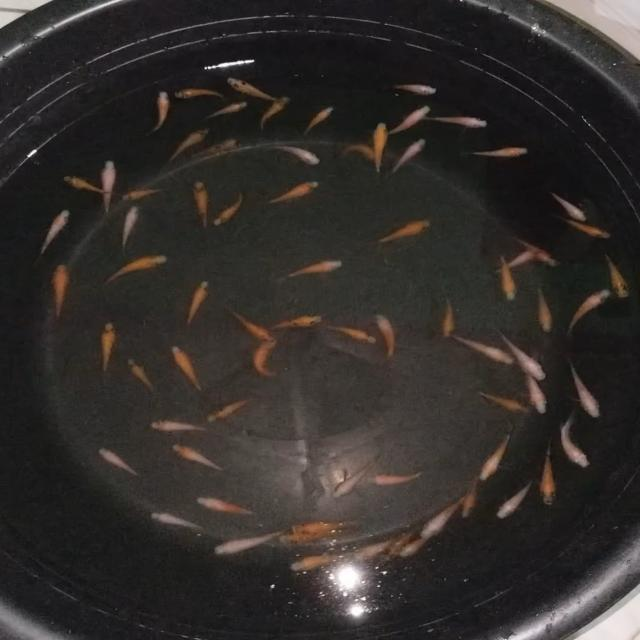nila: (496, 325, 549, 383), (558, 408, 600, 472), (446, 331, 518, 368), (214, 524, 286, 561), (418, 490, 468, 540), (330, 452, 380, 502), (565, 286, 612, 338), (383, 131, 431, 181), (30, 208, 74, 259), (100, 253, 170, 285), (169, 442, 232, 476), (477, 426, 515, 482), (469, 386, 532, 419), (493, 473, 538, 519), (223, 304, 274, 344), (570, 360, 604, 420), (167, 344, 206, 396), (193, 494, 270, 520), (378, 104, 432, 140), (224, 76, 287, 106), (259, 178, 322, 208), (537, 438, 563, 508), (165, 125, 210, 165), (371, 218, 432, 246), (98, 446, 148, 480), (554, 214, 614, 242), (494, 243, 542, 278), (146, 509, 213, 534), (316, 322, 379, 348), (524, 349, 548, 416), (280, 257, 346, 281), (263, 312, 327, 336), (418, 111, 494, 131), (181, 278, 210, 330), (513, 238, 563, 268), (249, 336, 281, 382), (188, 136, 240, 164), (382, 524, 420, 562), (96, 157, 120, 217), (49, 262, 71, 326), (374, 311, 401, 363), (604, 252, 632, 302), (292, 517, 362, 537), (204, 396, 254, 424), (548, 190, 590, 223), (340, 134, 386, 164), (258, 92, 292, 132), (212, 187, 245, 228), (276, 528, 332, 552), (125, 358, 162, 394), (270, 142, 323, 167), (114, 204, 140, 254), (61, 172, 113, 197), (371, 121, 394, 176), (201, 96, 249, 122), (291, 552, 343, 576), (531, 282, 554, 336), (146, 87, 172, 134), (458, 474, 484, 520), (356, 536, 400, 562), (461, 144, 531, 160), (300, 105, 336, 136), (400, 531, 438, 560), (496, 252, 516, 305), (192, 181, 212, 233), (144, 421, 214, 435), (366, 472, 432, 486), (118, 186, 170, 203), (172, 84, 223, 100), (385, 82, 442, 96), (100, 322, 114, 378), (441, 293, 457, 341)
